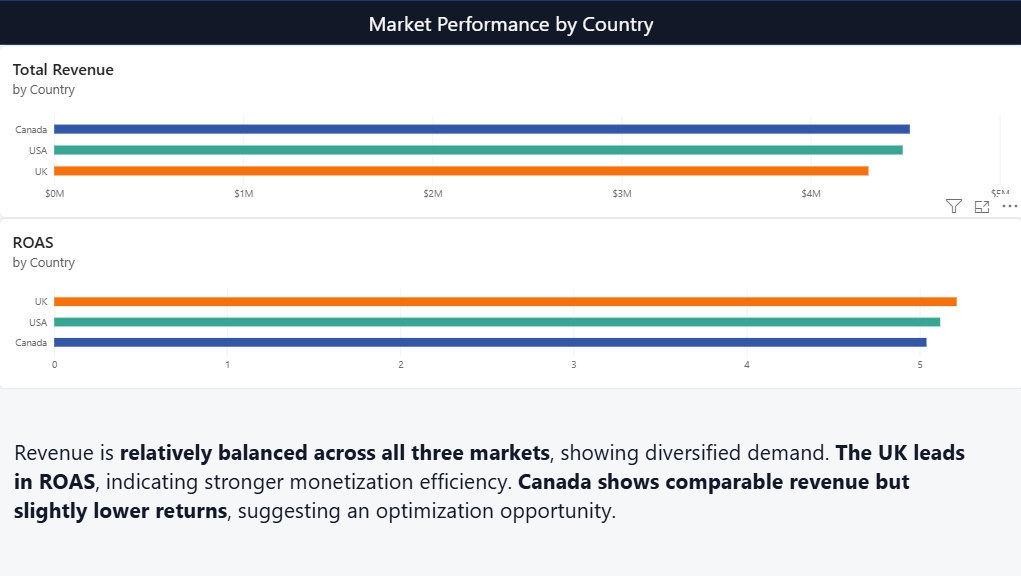

This screenshot's page, from the dashboard's own definition file:
{"tool":"powerbi","page":{"name":"Market Performance by Country","canvas":[1280,720],"ordinal":5},"visuals":[{"type":"shape","box":[0,0,1280,56.2],"z":0},{"type":"barChart","fields":{"Category":["dim_geo.Country"],"Y":["Formulas.Total Revenue"]},"box":[0,56.2,1280,216.2],"z":1000},{"type":"barChart","fields":{"Category":["dim_geo.Country"],"Y":["Formulas.ROAS"]},"box":[0,272.5,1280,213.8],"z":2000},{"type":"textbox","box":[19.4,545.7,1204.2,113.9],"z":3000}]}

Visuals, with their boxes in screenshot pixels (x1, y1, x2, y2), scaled from the page's 1280x720 canvas onto the 1021x576 screenshot:
shape: 0, 0, 1020, 45
barChart - dim_geo.Country x Formulas.Total Revenue: 0, 45, 1020, 218
barChart - dim_geo.Country x Formulas.ROAS: 0, 218, 1020, 389
textbox: 15, 437, 976, 528
